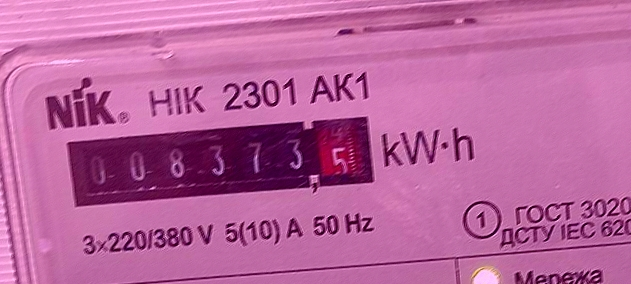0: (86, 149, 108, 187), (125, 145, 147, 183)
3: (282, 133, 307, 171), (204, 139, 228, 177)
4: (326, 121, 346, 143)
5: (329, 142, 350, 174)
7: (244, 135, 265, 175)
8: (164, 142, 188, 180)
screen: (60, 107, 383, 219)
